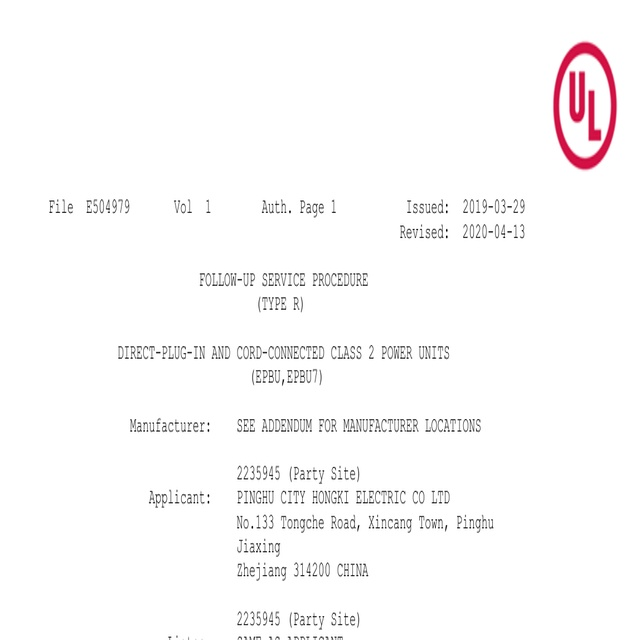ul: (553, 40, 618, 173)
